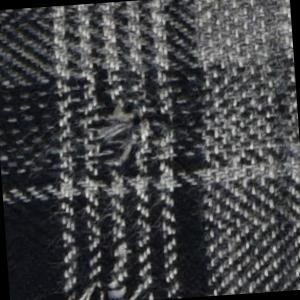Damage: (56, 77, 187, 183), (55, 266, 133, 300)
